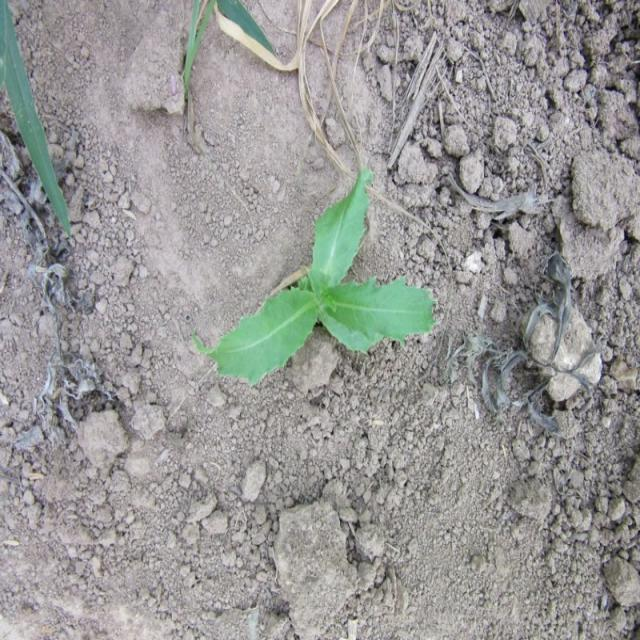field_thistle: (206, 195, 441, 419)
